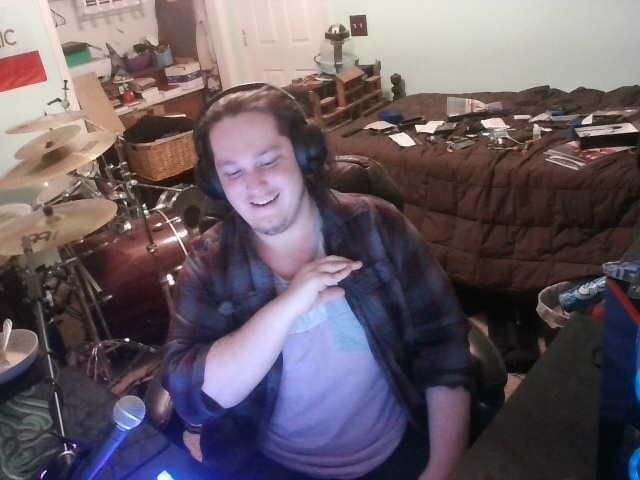police: (278, 244, 383, 326)
